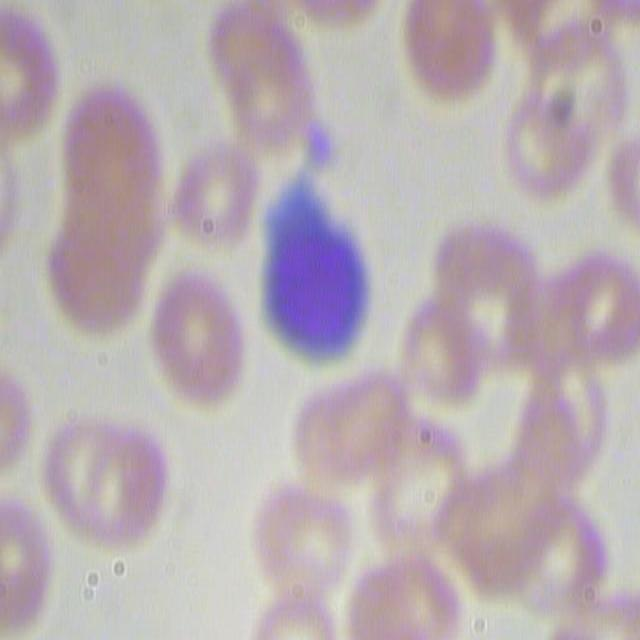RBC: (450, 473, 614, 638), (58, 75, 175, 244), (38, 415, 168, 556), (209, 0, 321, 155), (364, 391, 468, 547), (151, 254, 248, 414), (423, 216, 524, 367), (348, 528, 468, 638), (514, 358, 611, 491), (247, 466, 344, 590), (547, 254, 640, 380), (298, 376, 405, 480), (399, 304, 493, 420), (502, 97, 596, 208), (397, 0, 499, 98), (0, 0, 62, 159), (0, 495, 49, 633)
WBC: (268, 172, 370, 374)
platelets: (294, 103, 348, 199)
